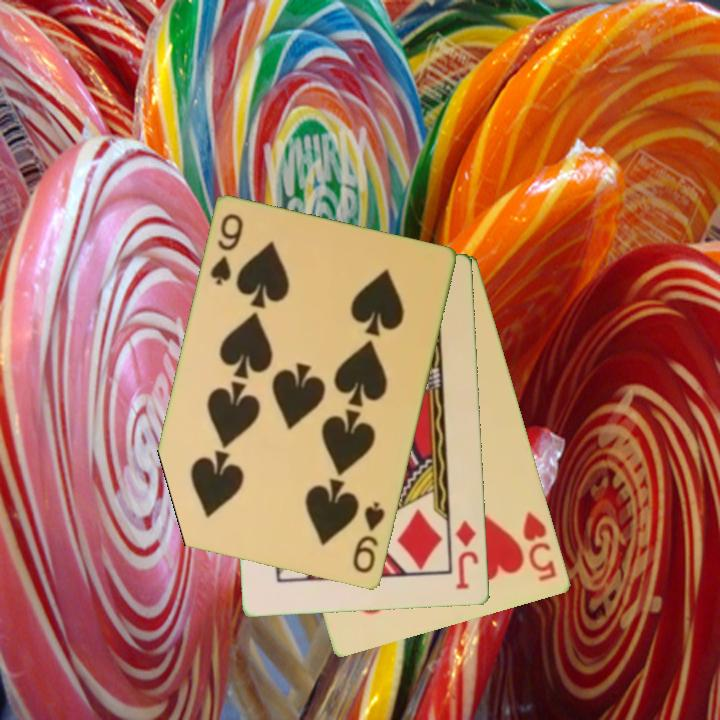5h: (519, 508, 560, 585)
9s: (349, 498, 389, 577), (207, 210, 247, 289)
Jd: (452, 518, 482, 593)
